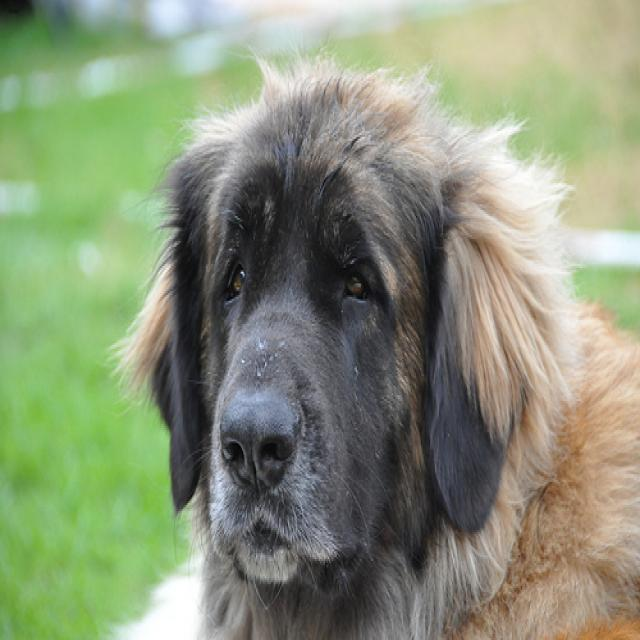dog-leonberger: (101, 44, 637, 636)
